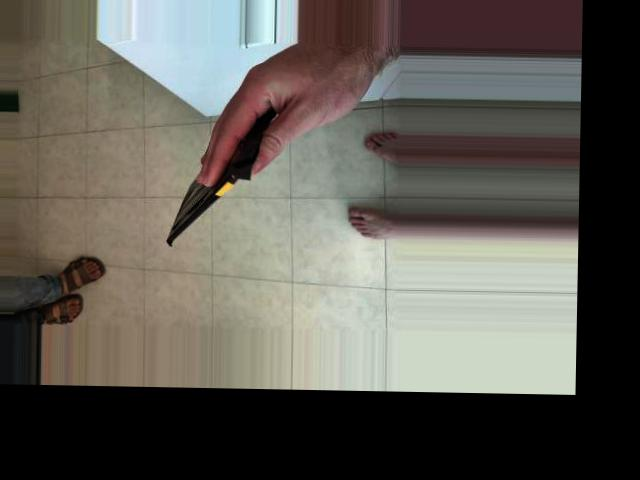chocolate: (159, 91, 282, 250)
